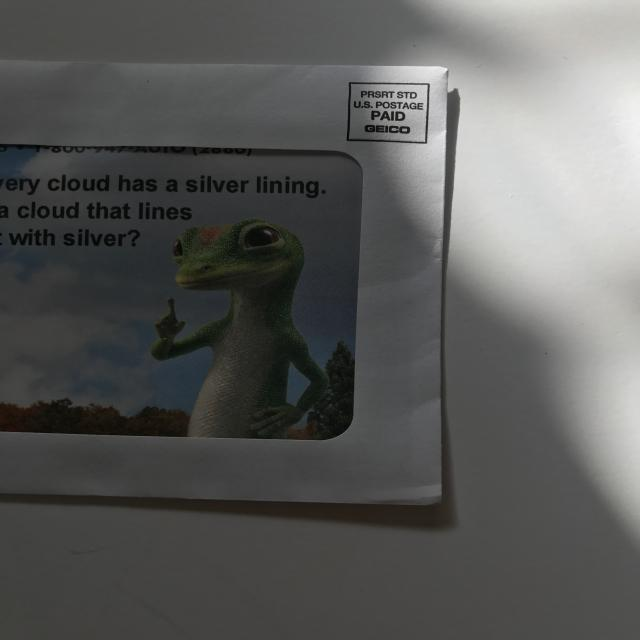Paper: (0, 51, 456, 512)
